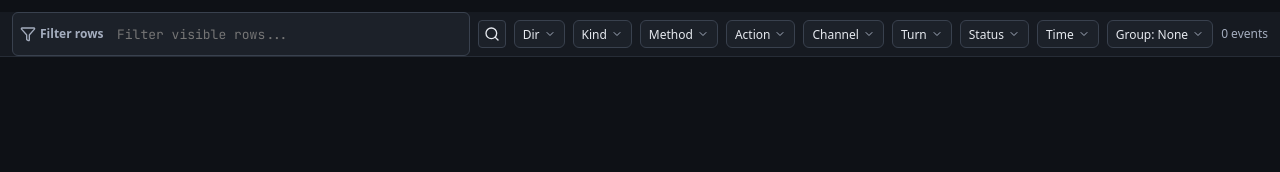
Scenario: FilterBar › renders a SearchTrigger button and SearchPopover on demand
The image size is (1280, 172).
// Click trigger to open popover
Click the button named "Open search". click: (492, 34)
box: [478,20,506,48]
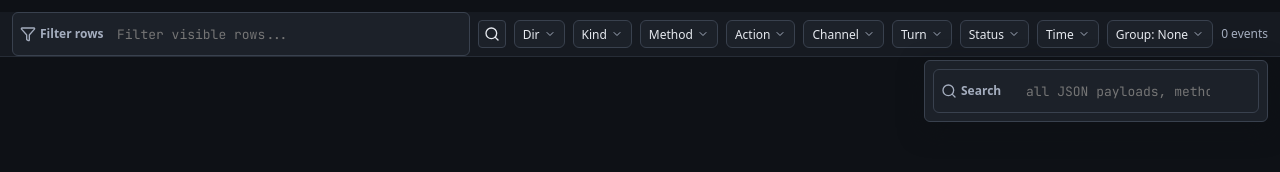
Expected: the element with test id "search-popover" is shown, [924,60,1268,122]
Expected: the field with placeholder "all JSON payloads, methods, ids, sessions..." is shown, [933,69,1259,113]
